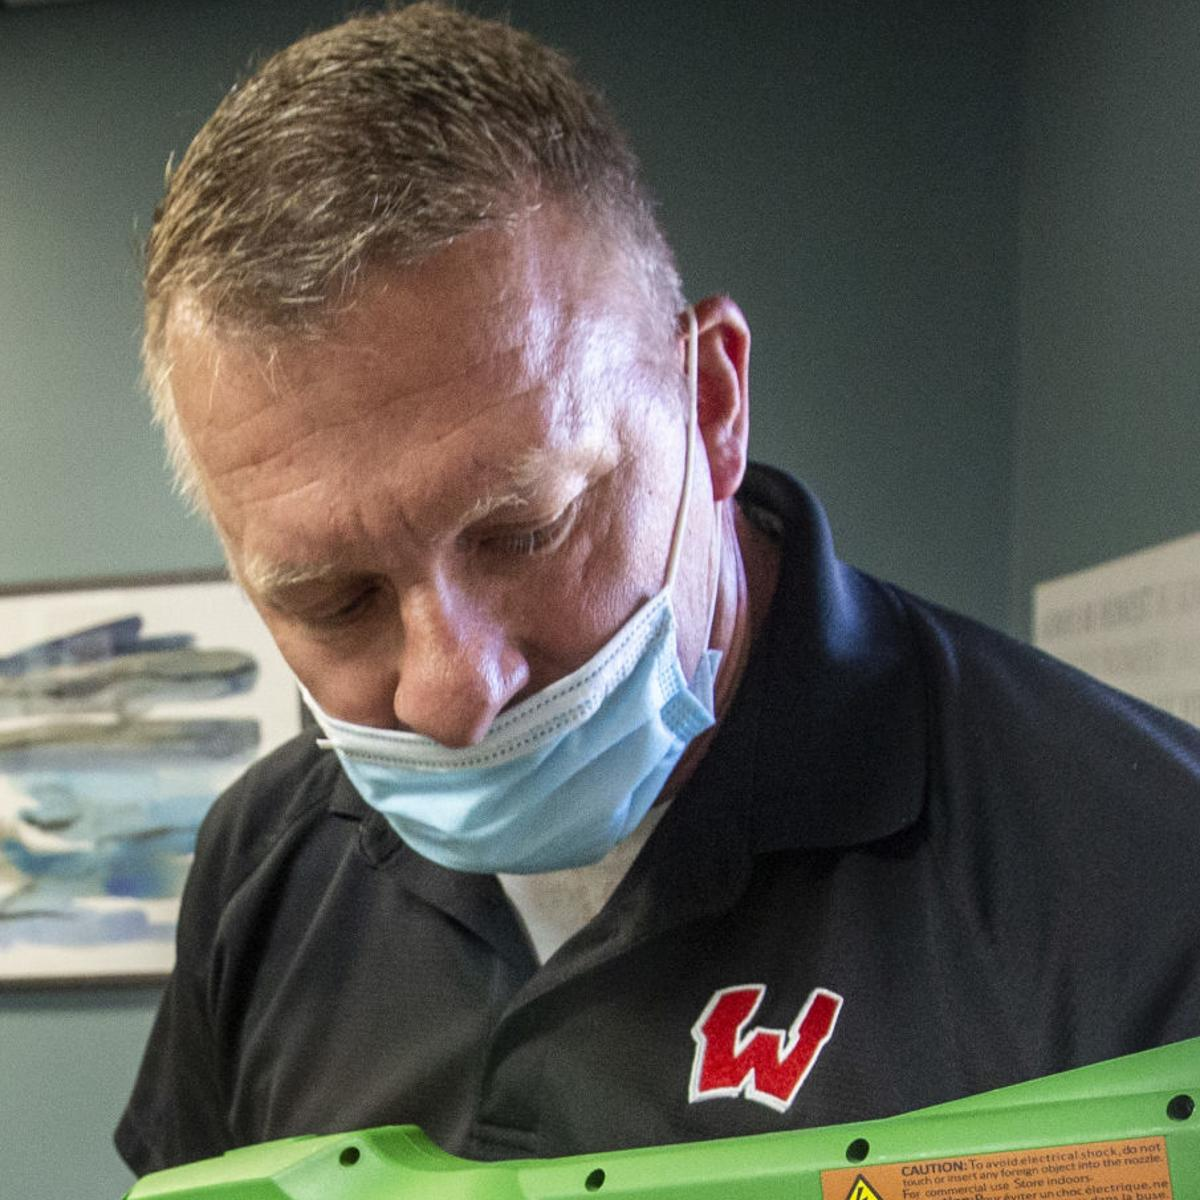nose: (390, 670, 533, 753)
